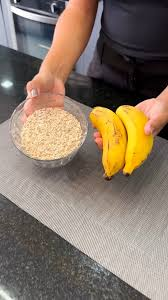banana: (86, 99, 153, 182)
